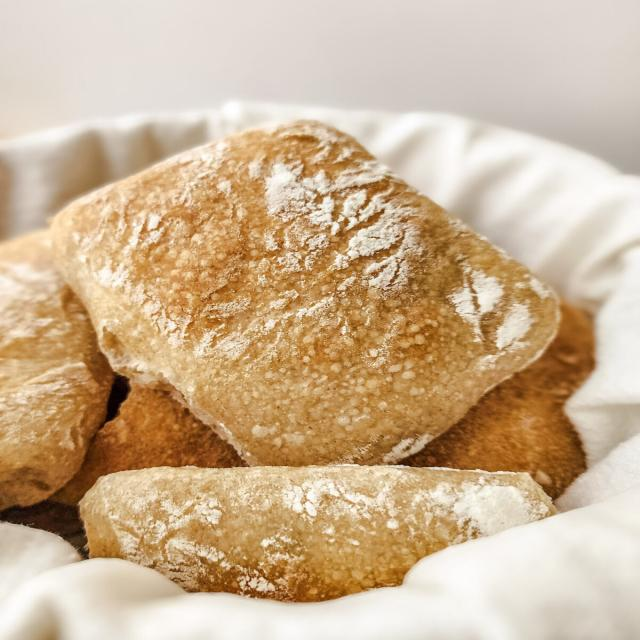Ciabatta: (51, 122, 559, 465), (80, 465, 556, 601)
